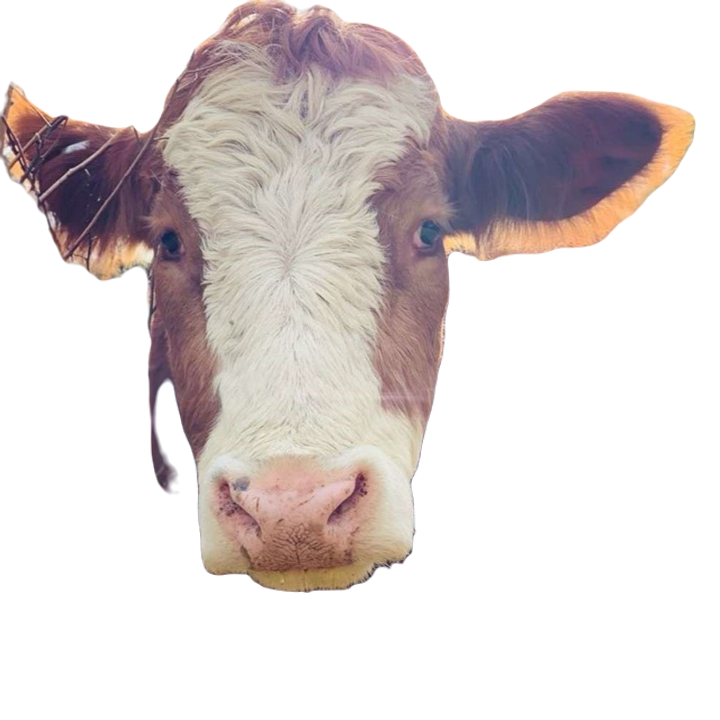Cow: (0, 1, 697, 589)
